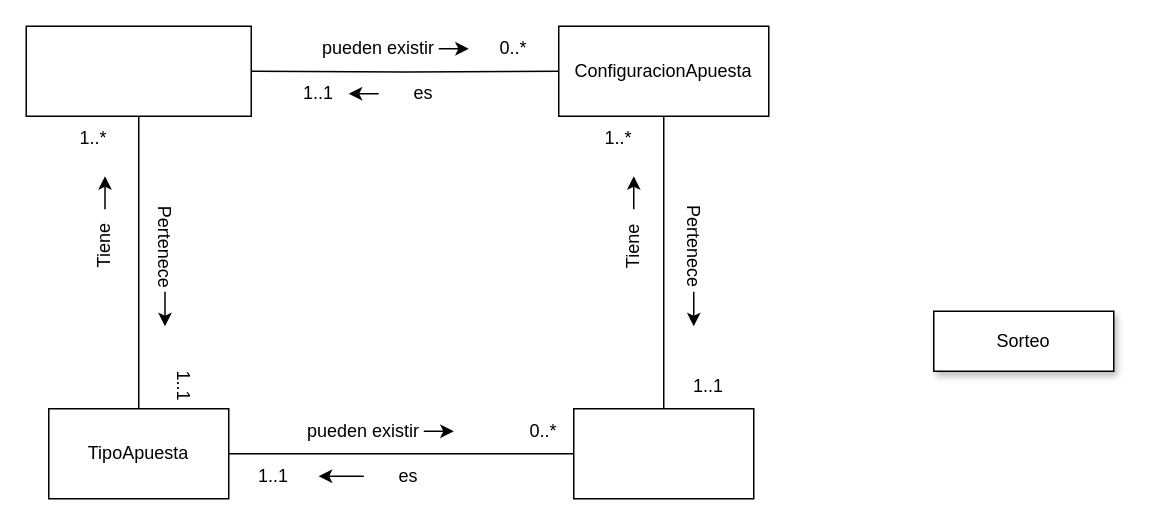
The diagram is 1149 pixels wide and 525 high, and some of its shapes have lost their labels. Here are the shapes that lost their labels. From the top down, the centre of each, then its label:
At point (138, 70): "TipoConfiguracionApuesta".
At point (663, 453): "Apuesta".
